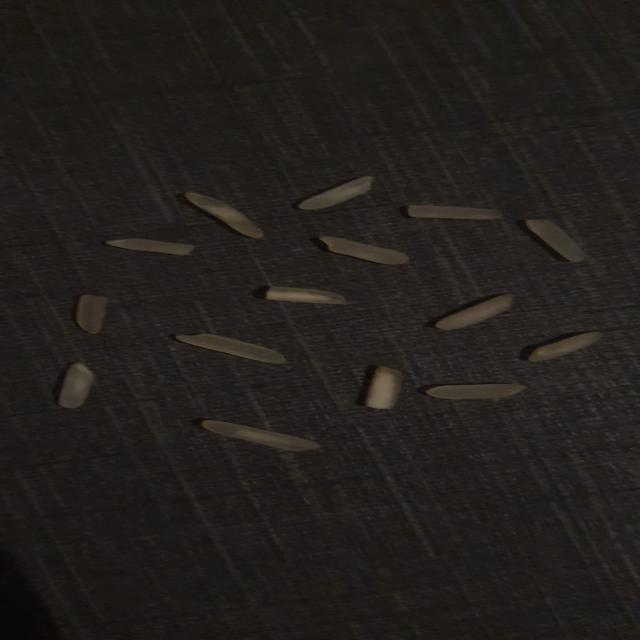Broken: (297, 176, 375, 210), (266, 286, 346, 305), (408, 205, 500, 220), (79, 294, 110, 332)
Full: (185, 192, 265, 239), (201, 420, 319, 451), (175, 333, 288, 364), (436, 294, 514, 329), (318, 236, 409, 265), (525, 220, 585, 262), (528, 332, 603, 362), (361, 366, 404, 409), (58, 362, 95, 408), (106, 238, 194, 256), (424, 384, 528, 399)
